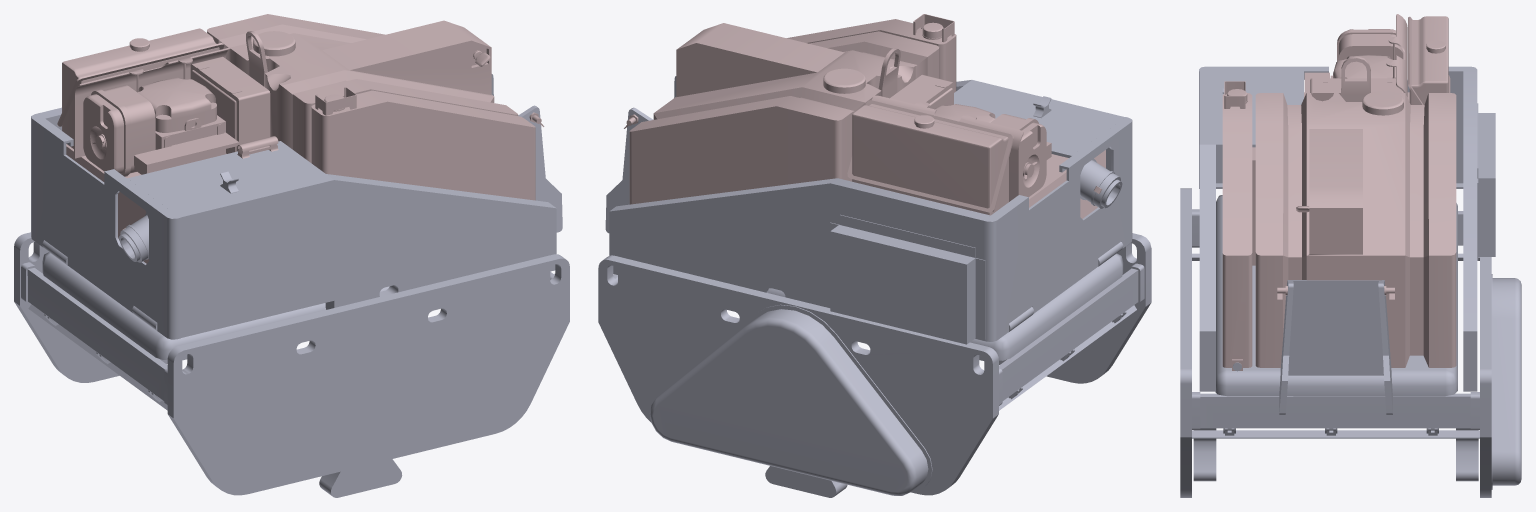
Rendered from SM_RollerMachine_01a.FBX.
3 renders of one model, left to right at view 1: azimuth 30°, elevation 25°; view 2: azimuth 150°, elevation 25°; view 3: azimuth 270°, elevation 25°, orthographic. The views are drawn at different scales.
Parts seen in each view (by area): view 1: SM_RollerMachine_Base_01a_LOD0; view 2: SM_RollerMachine_Base_01a_LOD0; view 3: SM_RollerMachine_Base_01a_LOD0.
Boxes of the visible parts, bbox=[...] form: SM_RollerMachine_Base_01a_LOD0: bbox=[14, 14, 569, 497]; SM_RollerMachine_Base_01a_LOD0: bbox=[598, 14, 1151, 497]; SM_RollerMachine_Base_01a_LOD0: bbox=[1180, 14, 1521, 497].
Size of what is drawn, in the model's own units: 123 by 106 by 83.13.
